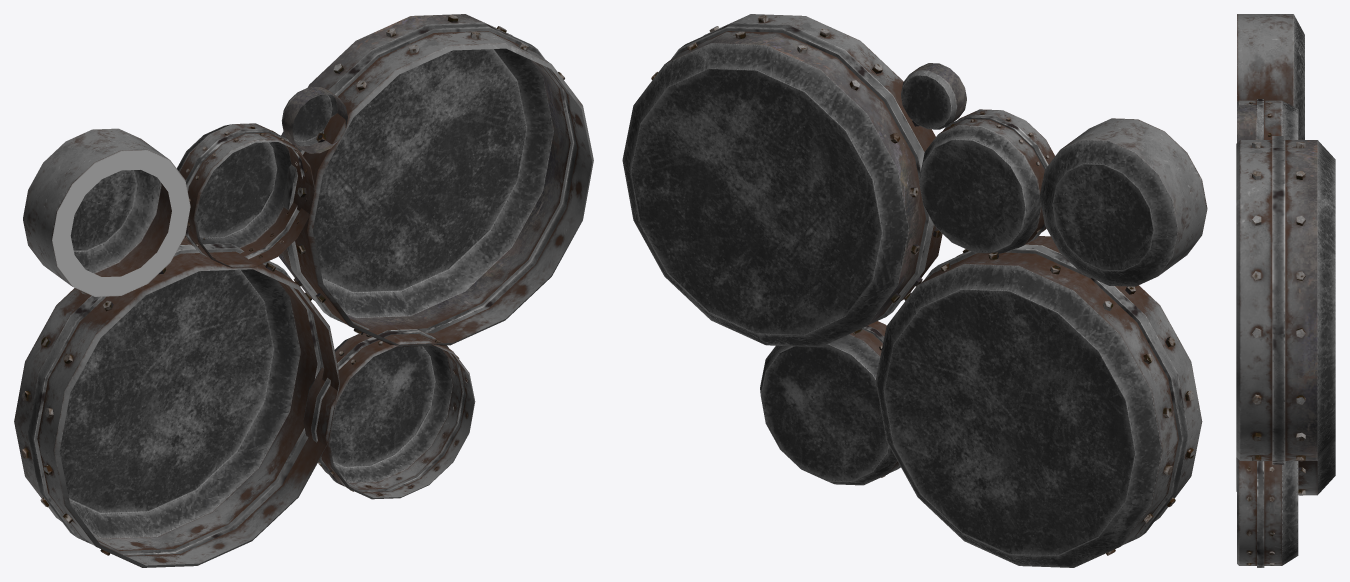
Rendered from Sci-Fi PipelineCoverFlip.fbx.
3 renders of one model, left to right at view 1: azimuth 30°, elevation 25°; view 2: azimuth 150°, elevation 25°; view 3: azimuth 270°, elevation 25°, orthographic. The views are drawn at different scales.
Parts seen in each view (by area): view 1: LinkRing.001; view 2: LinkRing.001; view 3: LinkRing.001.
Part boxes in pixels (x1,y1,x2,y2): LinkRing.001: (14, 14, 593, 567); LinkRing.001: (622, 14, 1207, 567); LinkRing.001: (1236, 14, 1335, 567).
Bounding box in the file's own units: 233 × 190 × 37.88.
